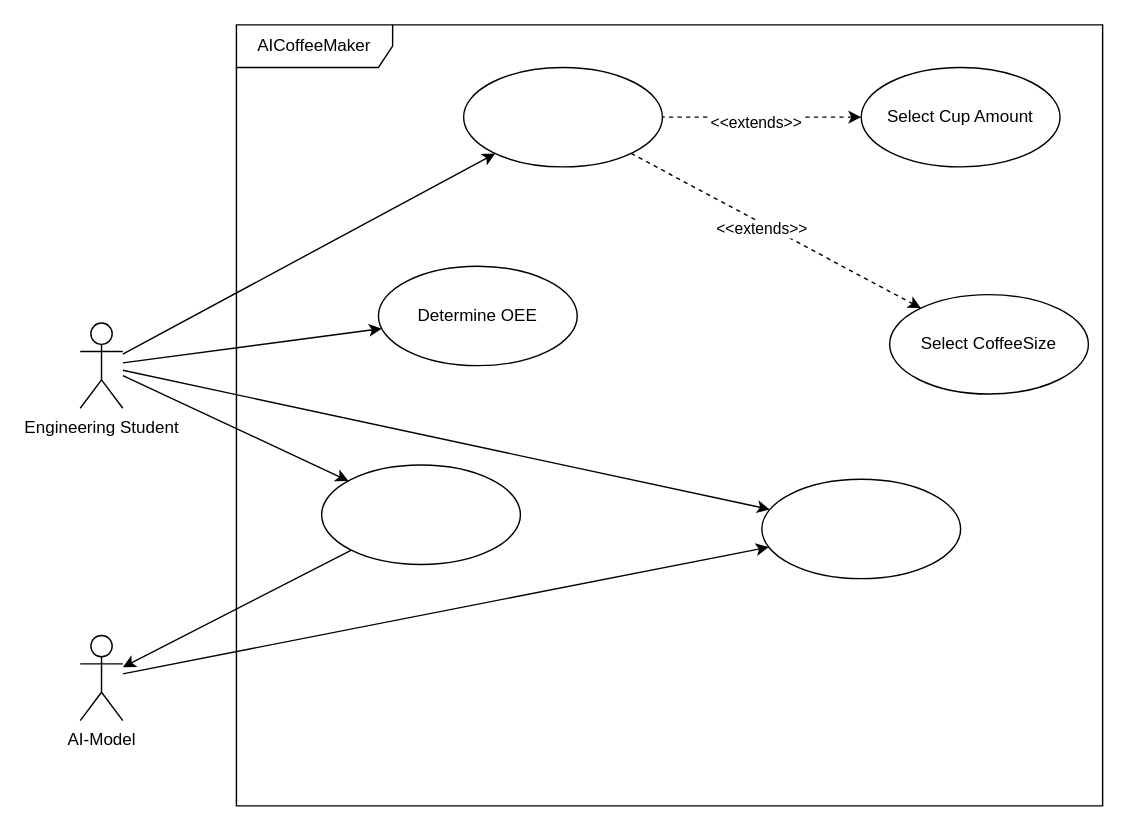
Image size: 1127x831. Some labels were removed from this diagram. Here are the shapes that lost their labels. From the top down, the centre of each, then its label:
At point 562,116: "Brew Coffee".
At point 420,514: "Distinguish Coffee from AI".
At point 860,528: "Read Energy Data".
